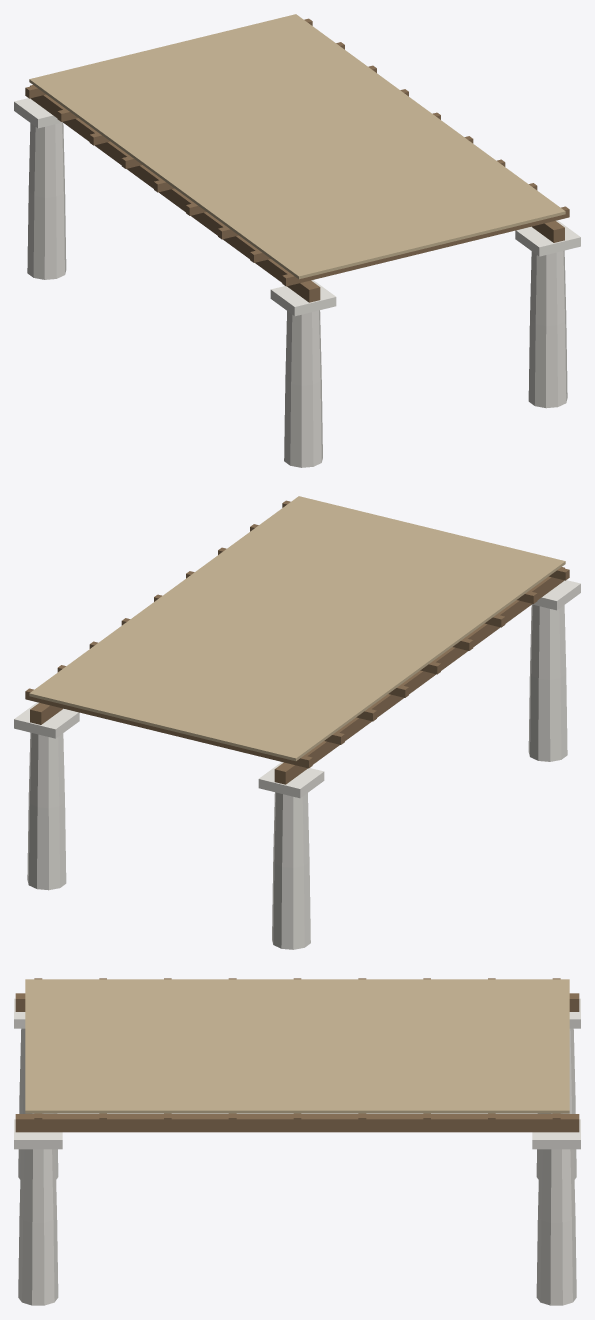
The model's file is pergola.glb.
3 views of the same model, one above another, from view 1: azimuth 30°, elevation 25°; view 2: azimuth 150°, elevation 25°; view 3: azimuth 270°, elevation 25° (orthographic).
Parts seen in each view (by area): view 1: SG_Pergola; view 2: SG_Pergola; view 3: SG_Pergola.
Part boxes in pixels (left/top/right/bottom): SG_Pergola: left=14, top=14, right=580, bottom=467; SG_Pergola: left=14, top=496, right=580, bottom=949; SG_Pergola: left=14, top=978, right=580, bottom=1305.
Size of the model in its own units: 5.15 by 3.28 by 8.75.
